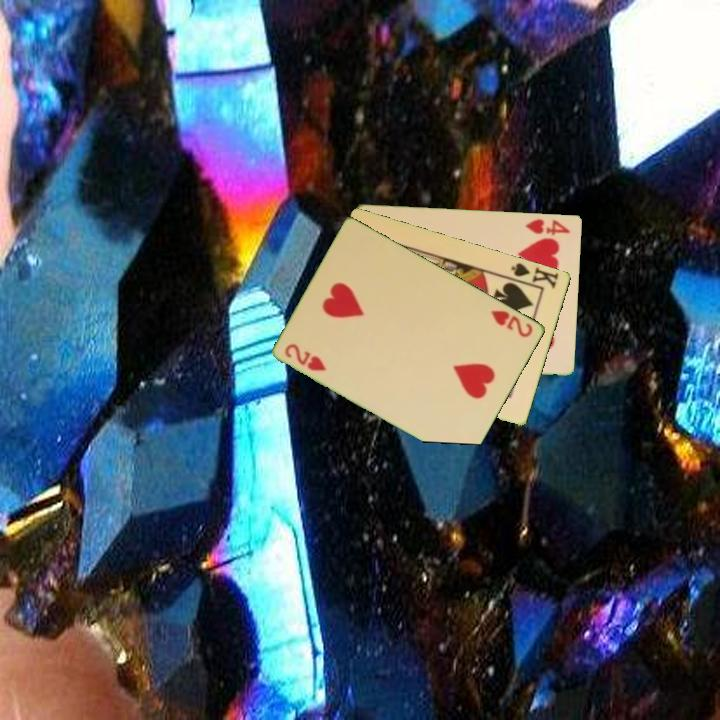2h: (281, 340, 330, 374), (488, 306, 536, 340)
4h: (522, 215, 573, 238)
Ks: (508, 259, 562, 291)
